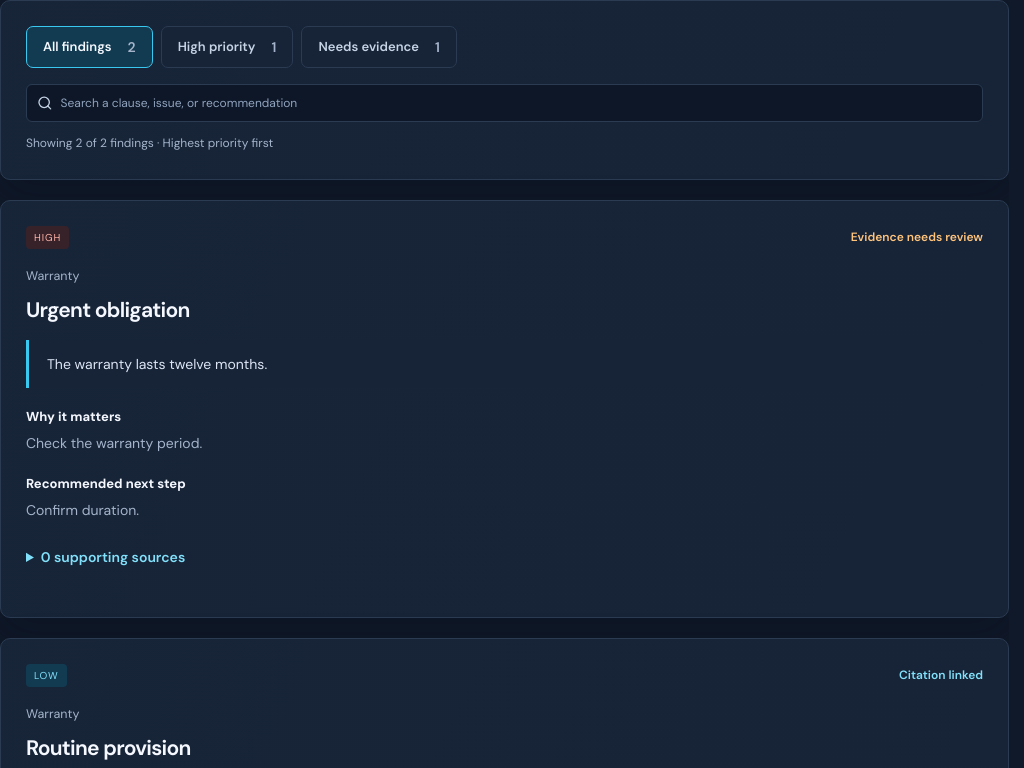
Scenario: Review triage and decision readiness › prioritizes high findings and combines evidence filters with search
Expected: the headings read "Urgent obligation", "Routine provision", in this order, x1=26 y1=296 x2=190 y2=324; x1=26 y1=734 x2=190 y2=762
Click the button "Needs evidence 1" at (379, 47), box x1=301 y1=26 x2=457 y2=68
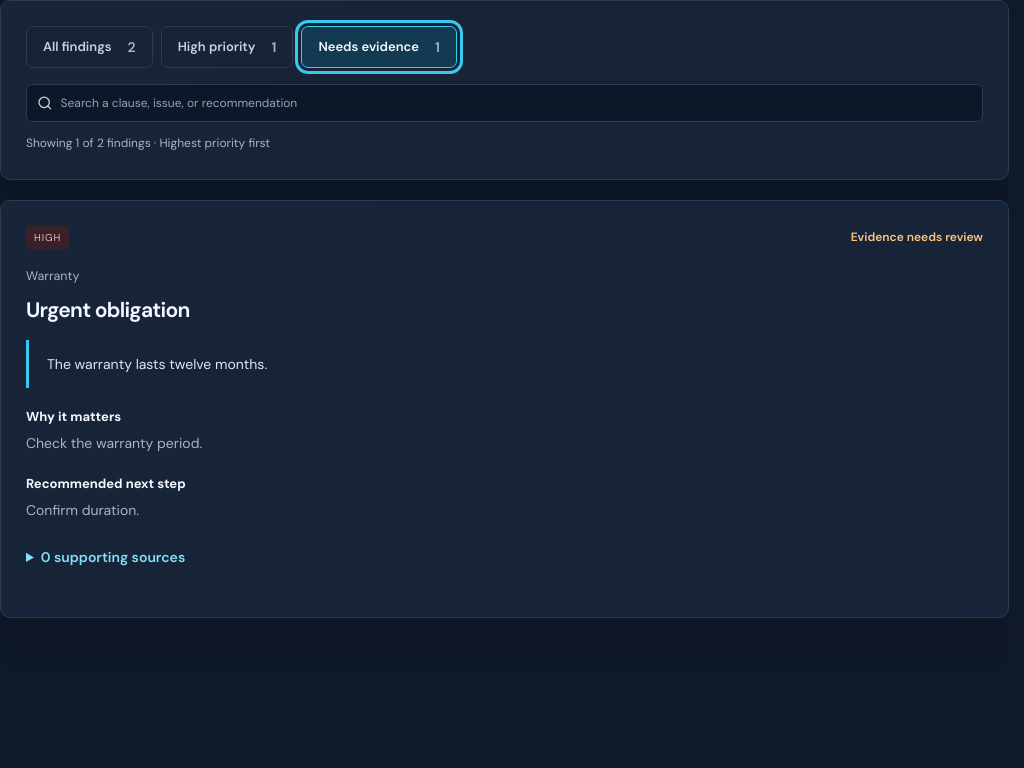
Expected: the heading "Urgent obligation" is shown, x1=26 y1=296 x2=190 y2=324
Expected: the heading "Routine provision" is gone
Type "absent" into the field named "Search findings" at (516, 103), box x1=61 y1=85 x2=972 y2=121
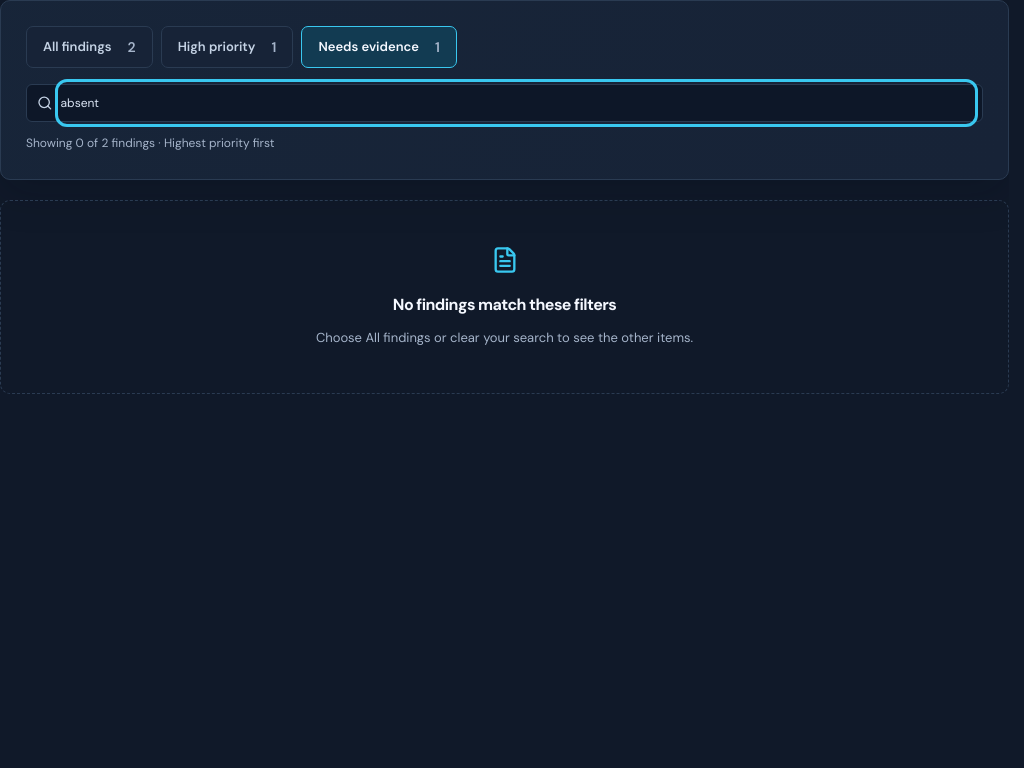
Expected: the message shows "Showing 0 of 2", x1=26 y1=135 x2=274 y2=151
Expected: the heading "No findings match these filters" is shown, x1=393 y1=294 x2=616 y2=315
